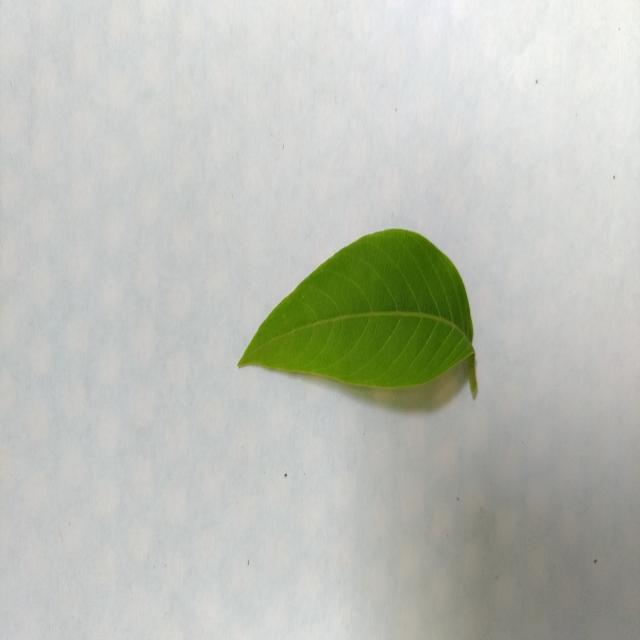seethaashoka: (239, 229, 476, 398)
